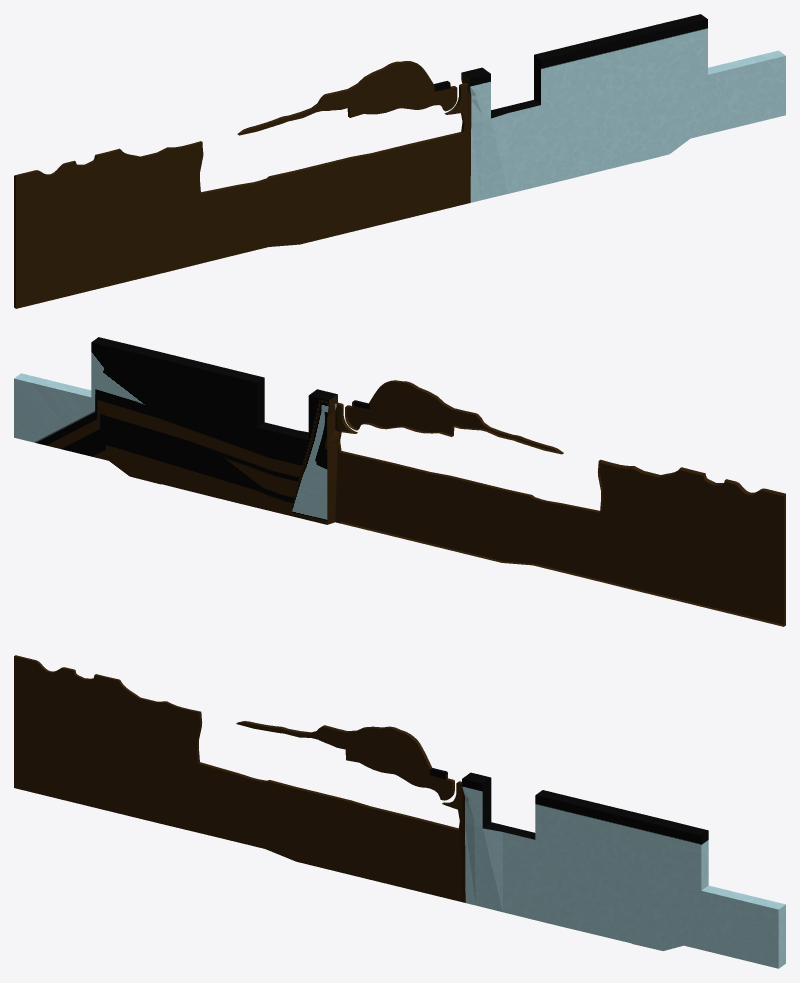
Rendered from PrototypeLevel14.FBX.
3 renders of one model, top to bottom at view 1: azimuth 30°, elevation 25°; view 2: azimuth 150°, elevation 25°; view 3: azimuth 330°, elevation 25°, orthographic.
Parts seen in each view (by area): view 1: New Terrain; view 2: New Terrain; view 3: New Terrain.
Part boxes in pixels (x1,y1,x2,y2): New Terrain: (14, 14, 785, 308); New Terrain: (14, 337, 785, 626); New Terrain: (14, 655, 785, 968).
Bounding box in the file's own units: 14820 × 2893 × 286.
